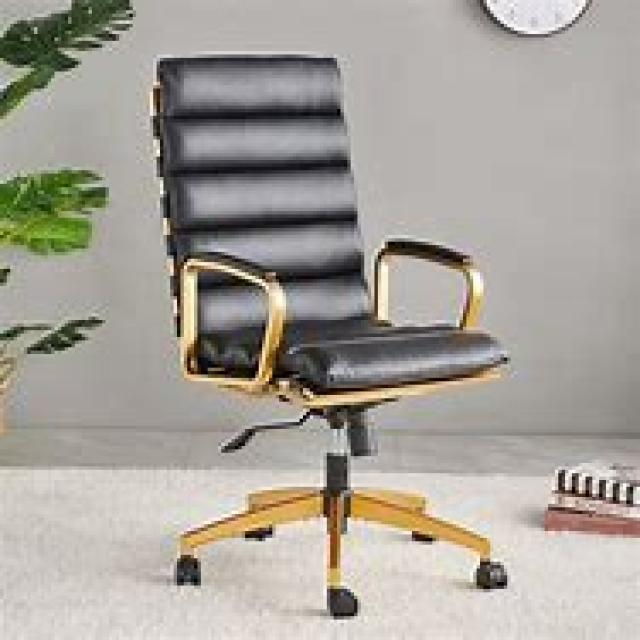chair: (146, 51, 511, 616)
